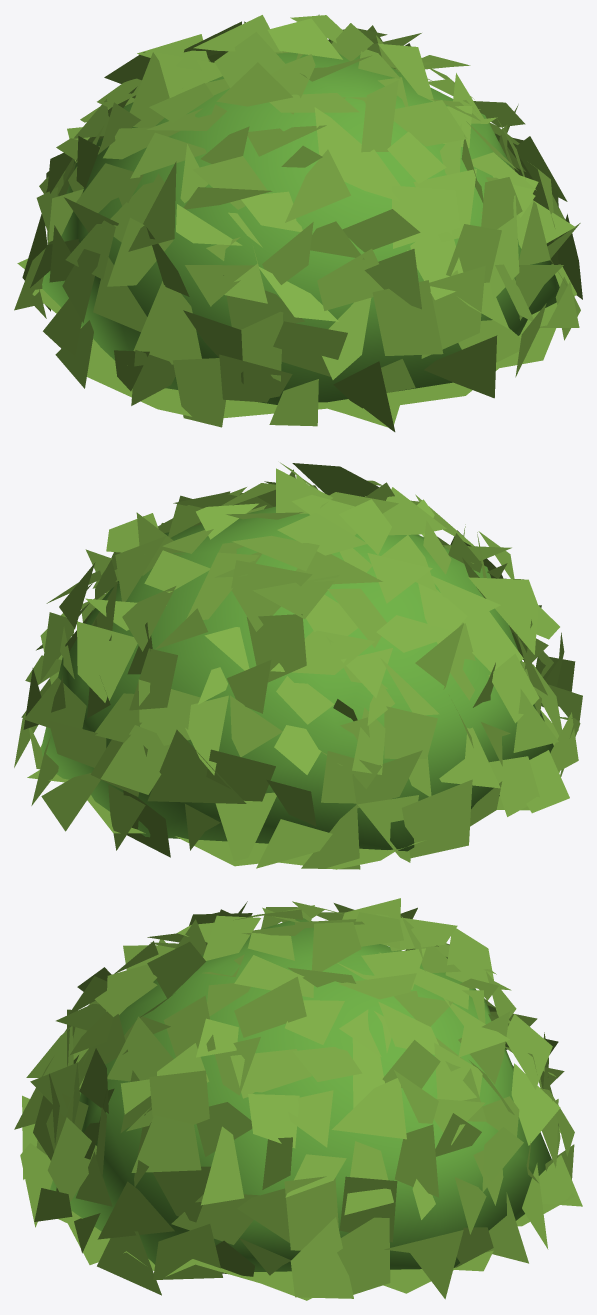
Rendered from bushwithbase.fbx.
The picture shows the model from 3 angles, top to bottom: view 1: azimuth 30°, elevation 25°; view 2: azimuth 150°, elevation 25°; view 3: azimuth 270°, elevation 25°; orthographic projection.
Parts seen in each view (by area): view 1: Cube.004, Cube.003; view 2: Cube.004, Cube.003; view 3: Cube.004, Cube.003.
Part boxes in pixels (x1=…): Cube.004: x1=14, y1=14, x2=582, y2=431; Cube.003: x1=42, y1=52, x2=559, y2=404; Cube.004: x1=14, y1=462, x2=582, y2=869; Cube.003: x1=41, y1=506, x2=553, y2=851; Cube.004: x1=14, y1=898, x2=582, y2=1300; Cube.003: x1=50, y1=918, x2=551, y2=1271.
Size of the model in its own units: 100 by 53.71 by 100.
